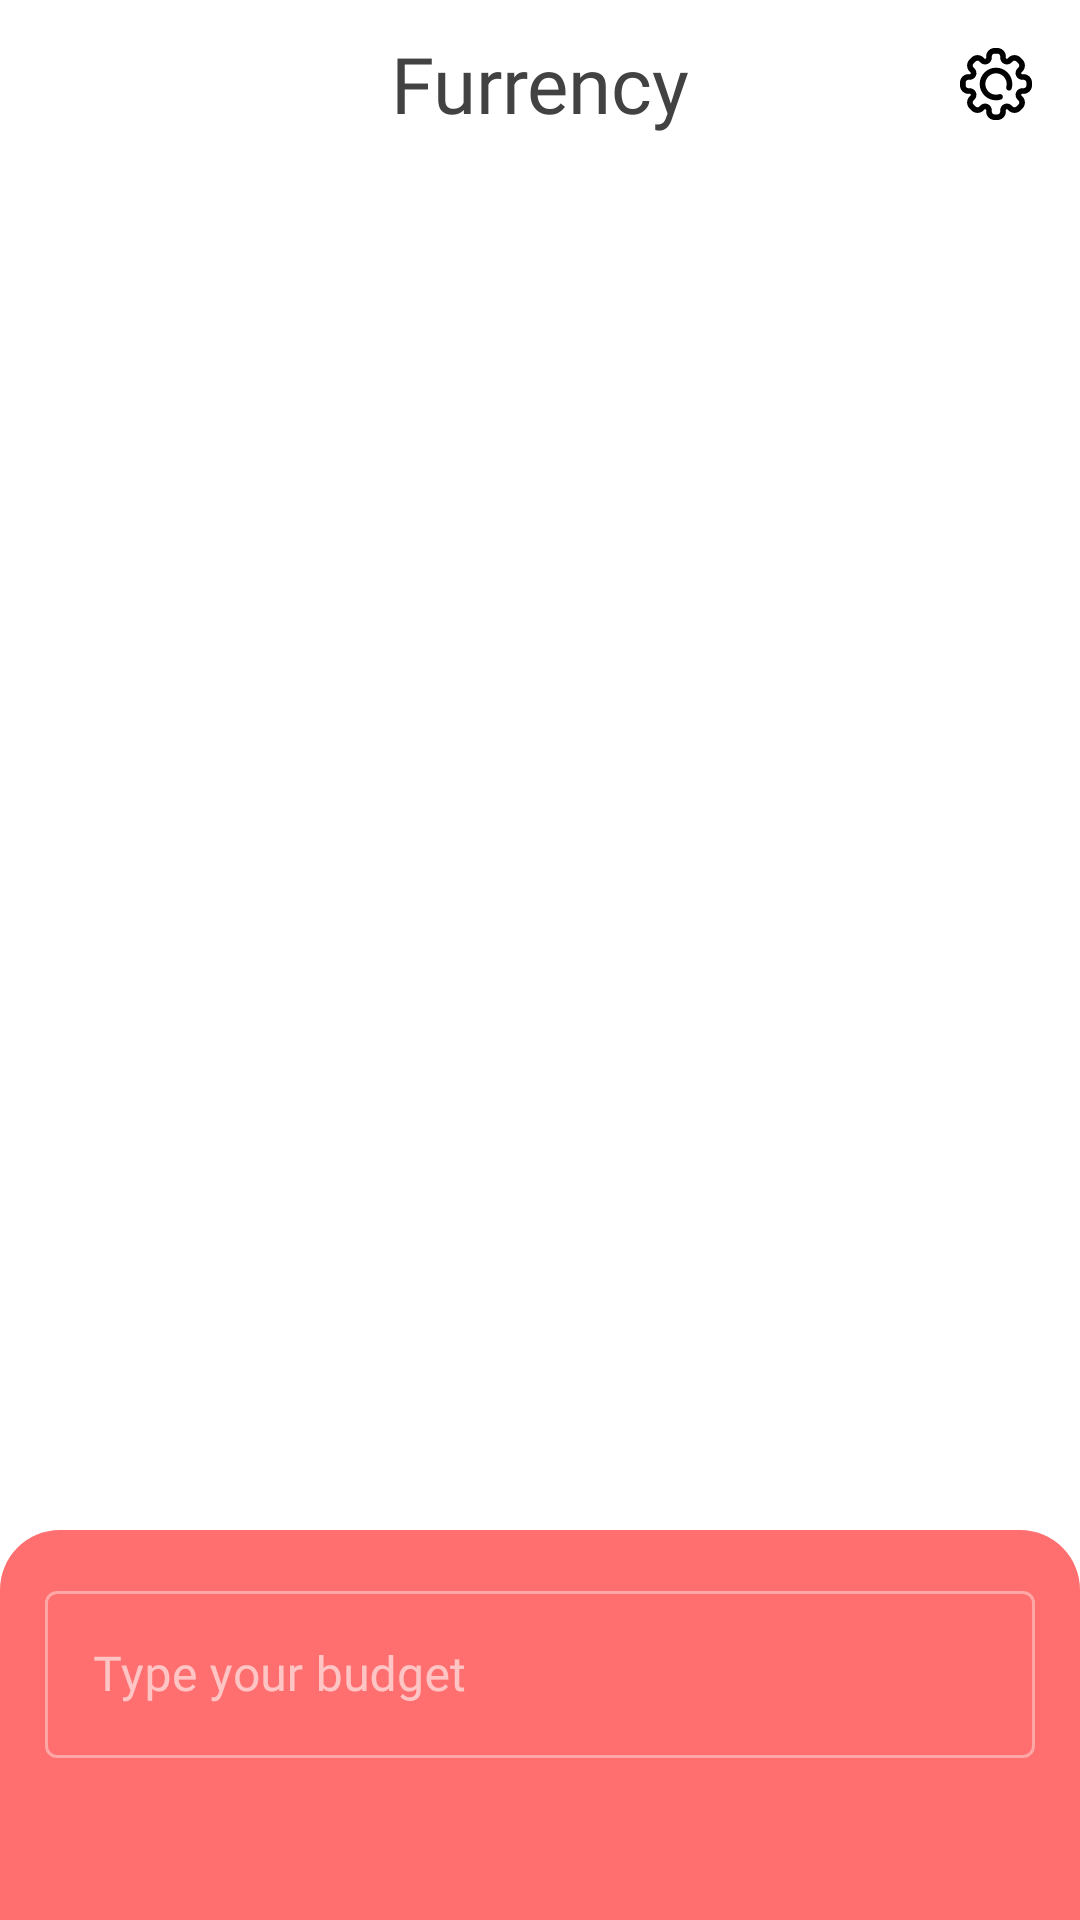

Where icons sit on this 1080x1920 app screen, as detection(x1, y1, x2, y2):
settings: detection(960, 48, 1032, 120)
